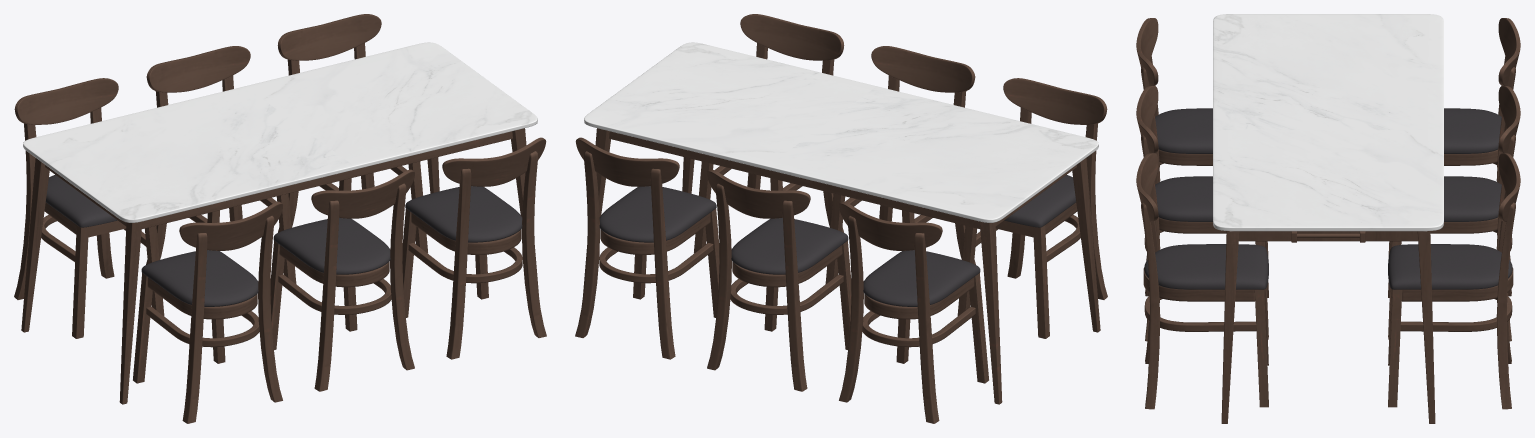
Rendered from MEGA_PACK_Tableset__tableset_614454_Frame_Walnut.glb.
The picture shows the model from 3 angles, left to right: view 1: azimuth 30°, elevation 25°; view 2: azimuth 150°, elevation 25°; view 3: azimuth 270°, elevation 25°; orthographic projection. The views are drawn at different scales.
Parts seen in each view (by area): view 1: tableset_614454_Frame_Walnut; view 2: tableset_614454_Frame_Walnut; view 3: tableset_614454_Frame_Walnut.
Boxes of the visible parts, box(x1,y1,x2,y2) form: tableset_614454_Frame_Walnut: box(14, 14, 546, 423); tableset_614454_Frame_Walnut: box(575, 14, 1107, 423); tableset_614454_Frame_Walnut: box(1136, 14, 1520, 423).
Bounding box in the file's own units: 1.76 × 0.7981 × 1.33.
Materials: 1 (1 with a texture image).
